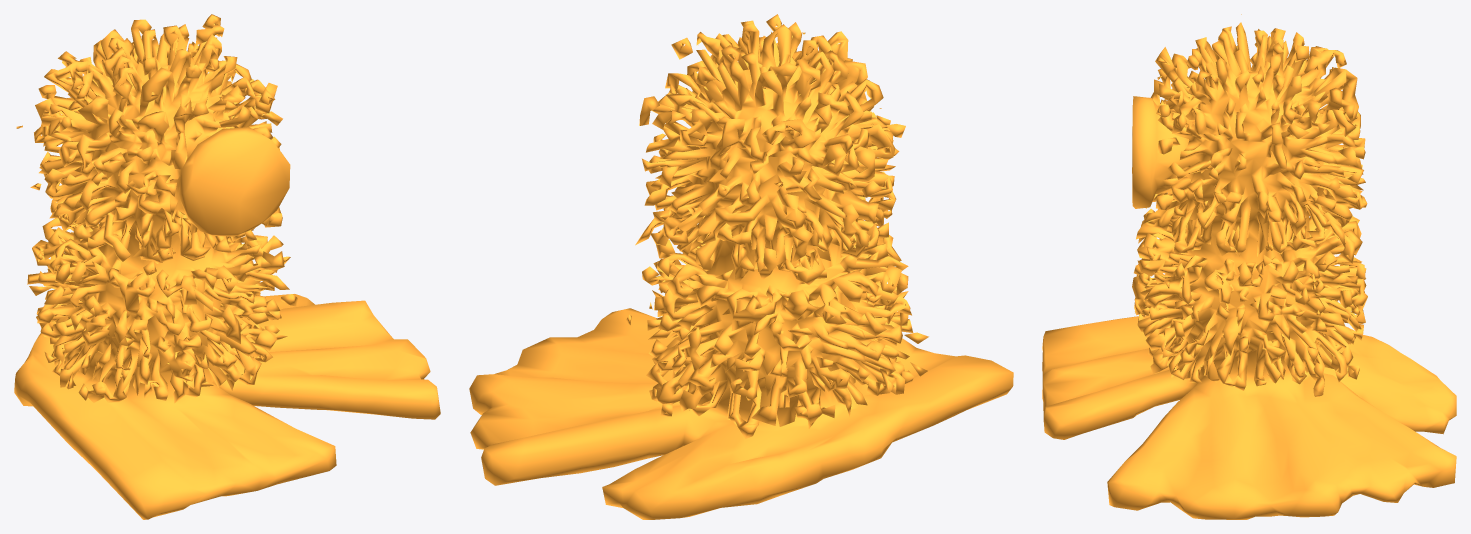
Rendered from kora.glb.
The picture shows the model from 3 angles, left to right: view 1: azimuth 30°, elevation 25°; view 2: azimuth 150°, elevation 25°; view 3: azimuth 270°, elevation 25°; orthographic projection. The views are drawn at different scales.
Parts seen in each view (by area): view 1: Kora_Body; view 2: Kora_Body; view 3: Kora_Body.
Boxes of the visible parts, x1,y1,x2,y2 form: Kora_Body: [14, 14, 440, 519]; Kora_Body: [469, 14, 1013, 519]; Kora_Body: [1042, 14, 1456, 519].
Size of the model in its own units: 1.99 by 1.96 by 1.99.
